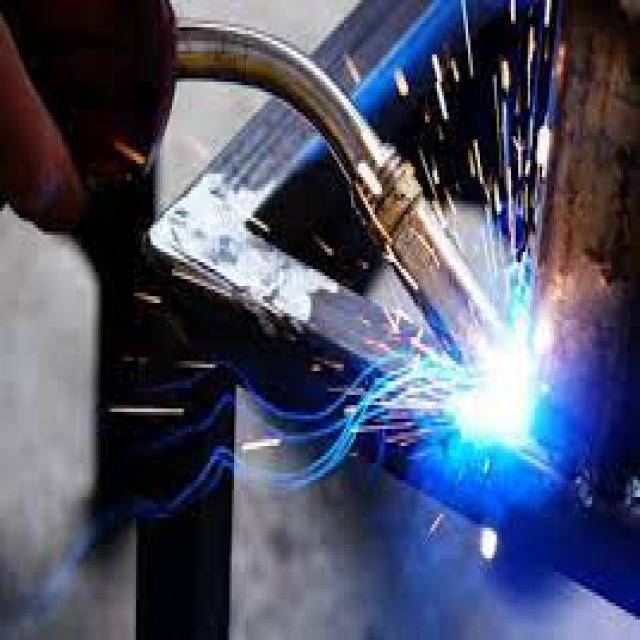welding: (470, 344, 532, 436)
